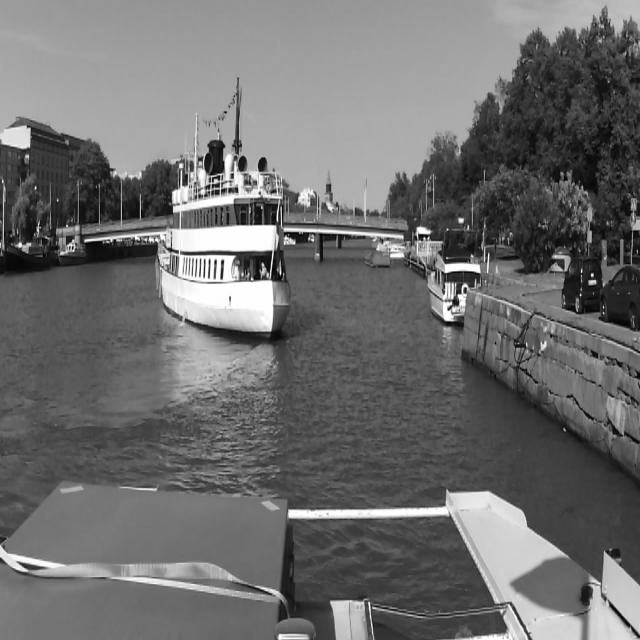ship: (156, 75, 292, 333), (428, 245, 482, 327), (0, 239, 52, 269), (58, 242, 86, 265)
